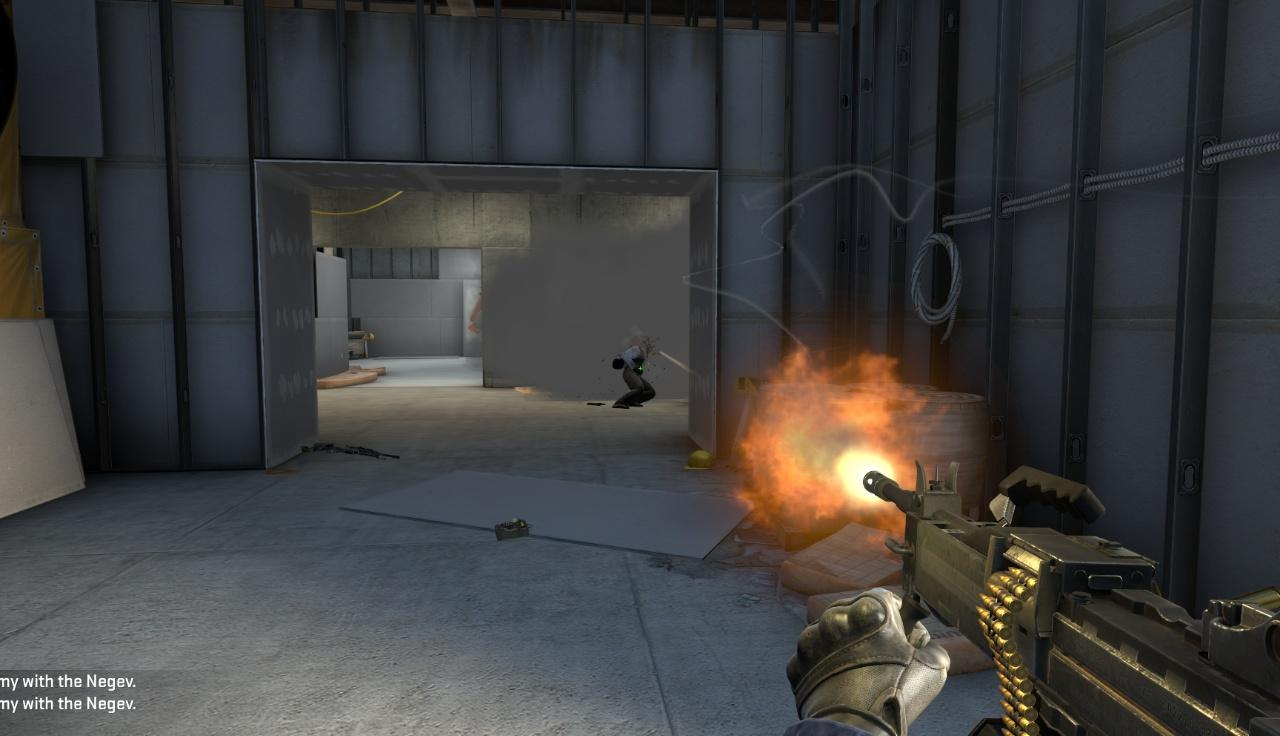rifle: (843, 450, 1280, 736)
tt: (616, 335, 652, 410)
